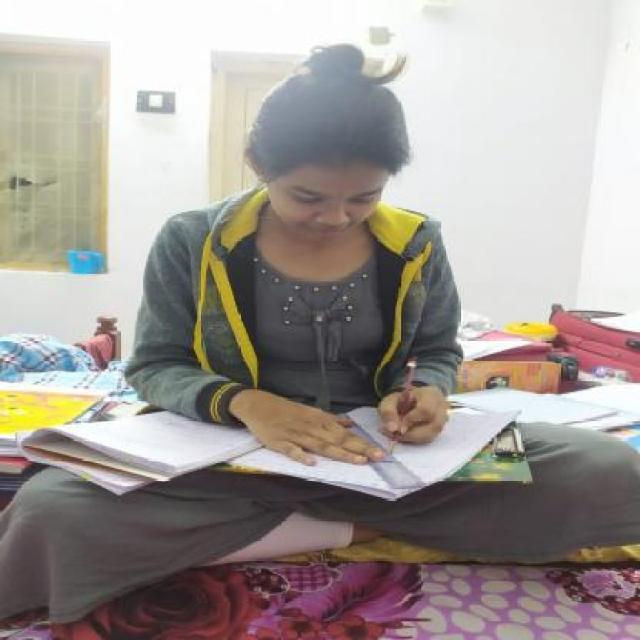good: (109, 35, 546, 514)
